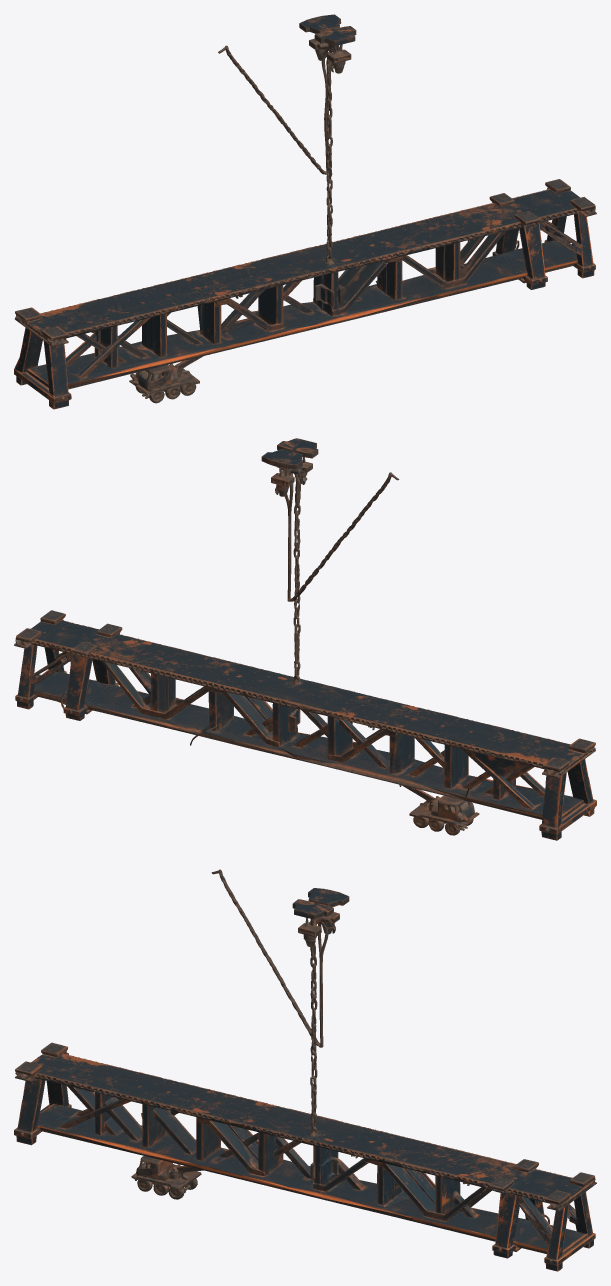
File: fg_crane_girder.glb
3 views of the same model, one above another, from view 1: azimuth 30°, elevation 25°; view 2: azimuth 150°, elevation 25°; view 3: azimuth 330°, elevation 25° (orthographic).
Size of the model in its own units: 1.89 by 1.12 by 0.2595.
Materials: 1 (1 with a texture image).
